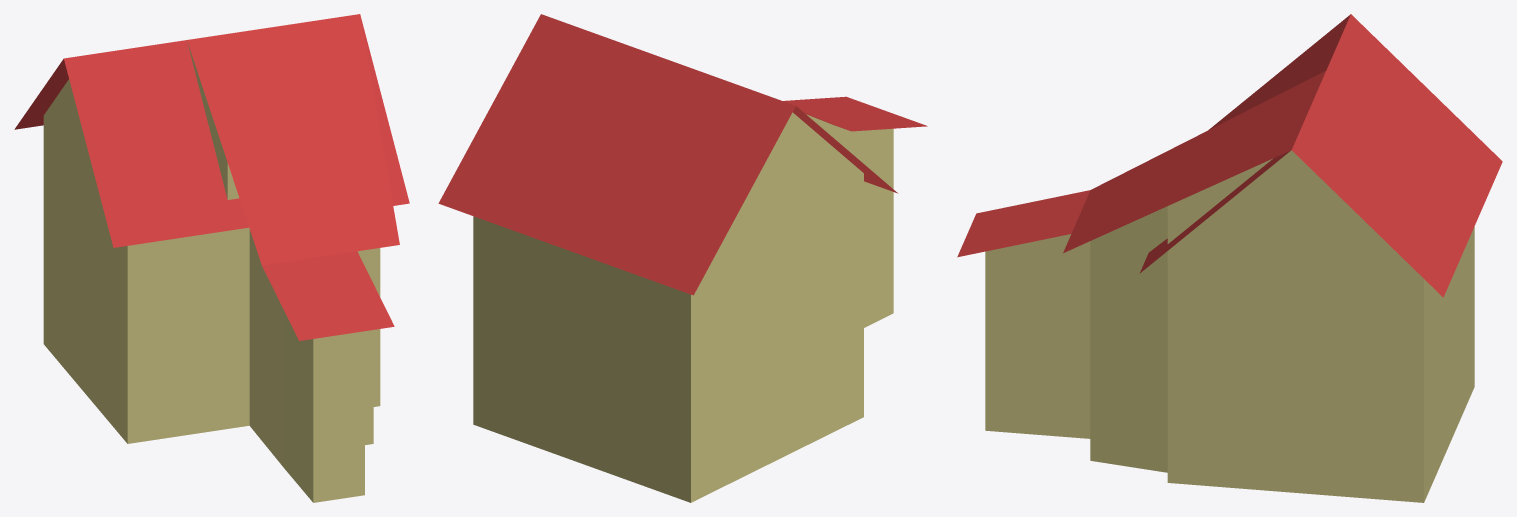
3 renders of one model, left to right at view 1: azimuth 30°, elevation 25°; view 2: azimuth 150°, elevation 25°; view 3: azimuth 270°, elevation 25°, orthographic. The views are drawn at different scales.
Bounding box in the file's own units: 11.74 × 16.93 × 12.08.
